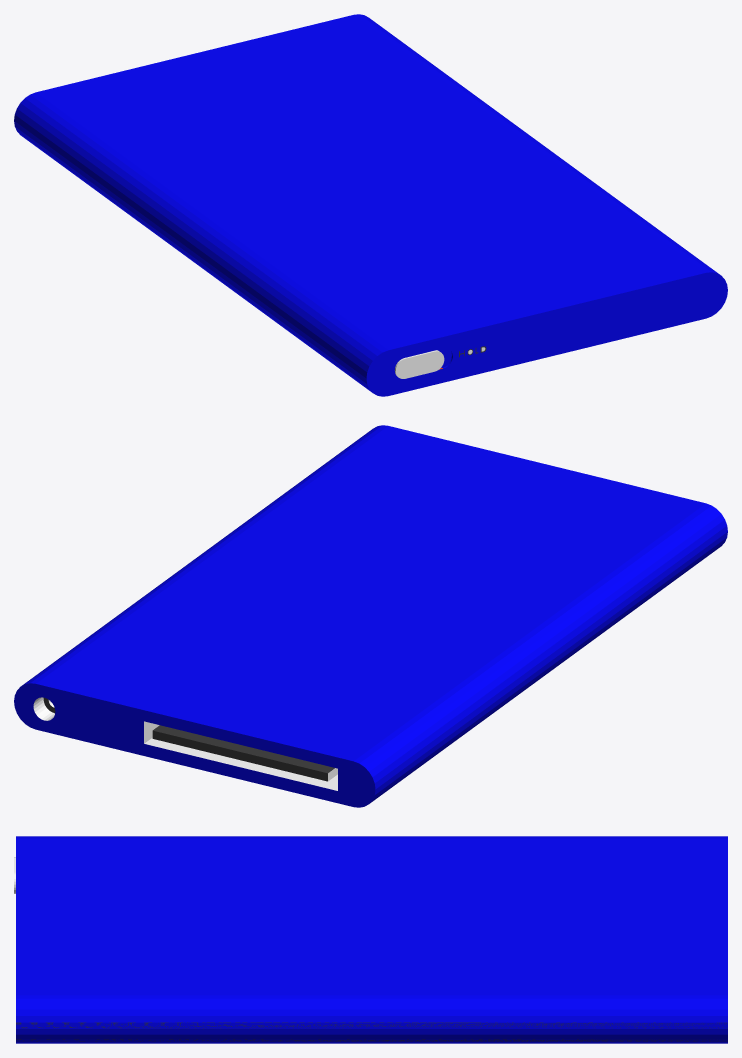
3 views of the same model, one above another, from view 1: azimuth 30°, elevation 25°; view 2: azimuth 150°, elevation 25°; view 3: azimuth 270°, elevation 25° (orthographic).
Visible parts, largest first — view 1: ipod; view 2: ipod; view 3: ipod.
Boxes of the visible parts, left/top/right/bottom form: ipod: left=14, top=14, right=727, bottom=396; ipod: left=14, top=425, right=727, bottom=807; ipod: left=14, top=836, right=727, bottom=1043.
Size of the model in its own units: 206 by 25 by 350.
